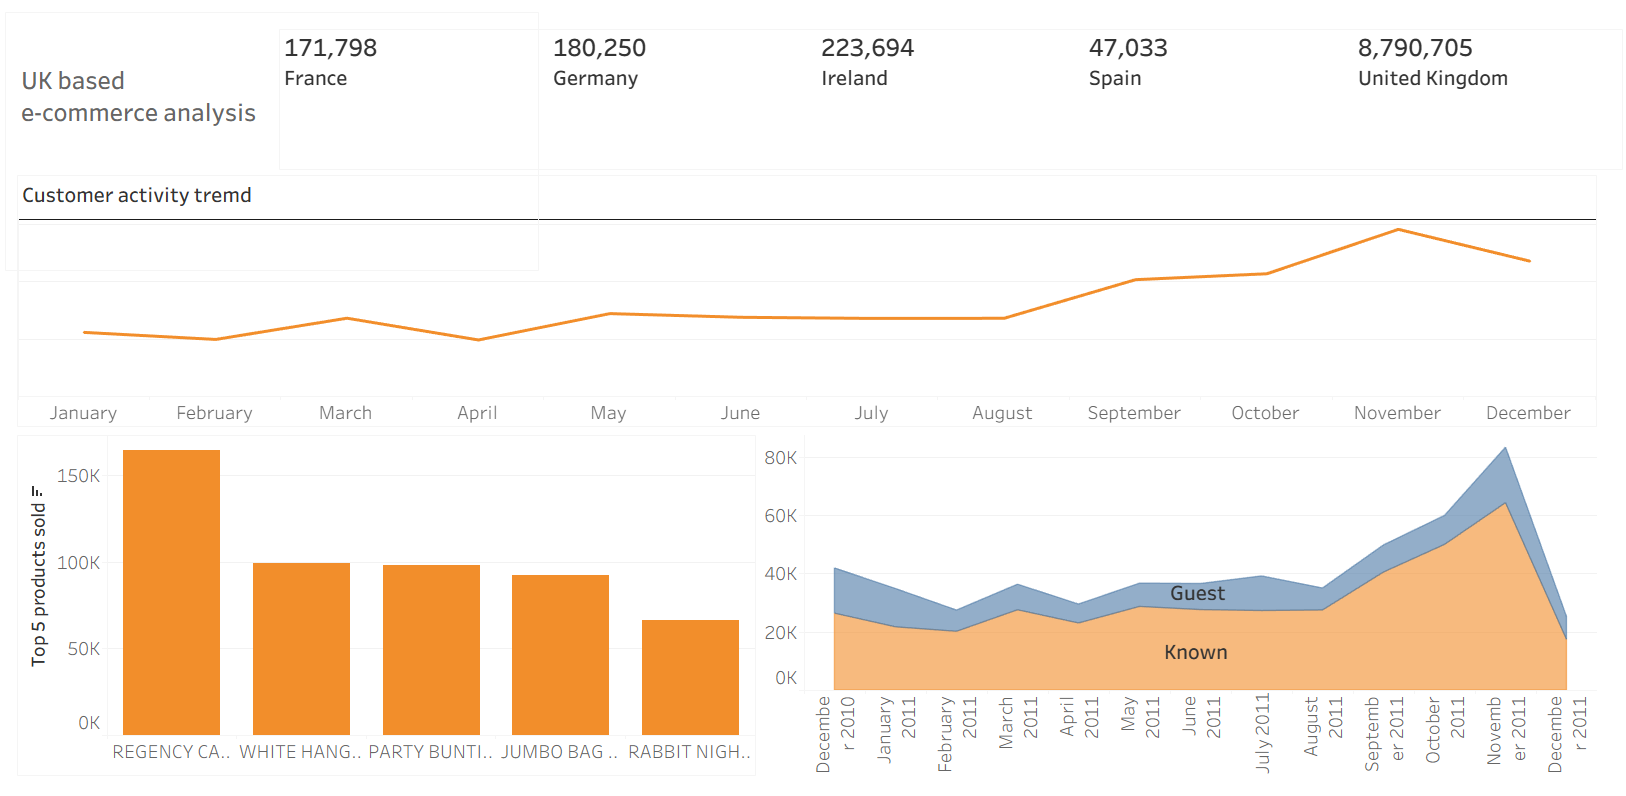

The page's visual inventory and layout, read from the dashboard file:
{"tool":"tableau","page":{"name":"Dashboard 1","canvas":[1604,776],"ordinal":0},"visuals":[{"type":"text","box":[8,8,1588,151]},{"type":"worksheet","title":"trend","mark":"Automatic","rows":["Revenue"],"cols":["InvoiceDate"],"box":[8,159,1588,260]},{"type":"worksheet","title":"top 5 products","mark":"Automatic","rows":["Revenue"],"cols":["Description"],"box":[8,419,747,349]},{"type":"worksheet","title":"cust type","mark":"Area","rows":["Customer type"],"cols":["InvoiceDate"],"box":[755,419,841,349]}]}

Visuals, with their boxes in screenshot pixels (x1, y1, x2, y2), scaled from the page's 1604x776 canvas onto the 1626x796 screenshot:
text: Rect(8, 8, 1618, 163)
"trend" worksheet: Rect(8, 163, 1618, 430)
"top 5 products" worksheet: Rect(8, 430, 765, 788)
"cust type" worksheet (Area marks): Rect(765, 430, 1618, 788)
